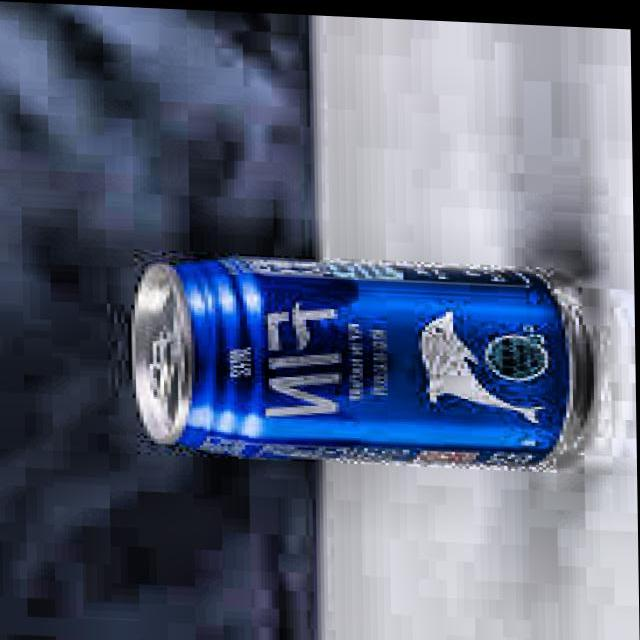Aluminum Can: (124, 241, 602, 472)
